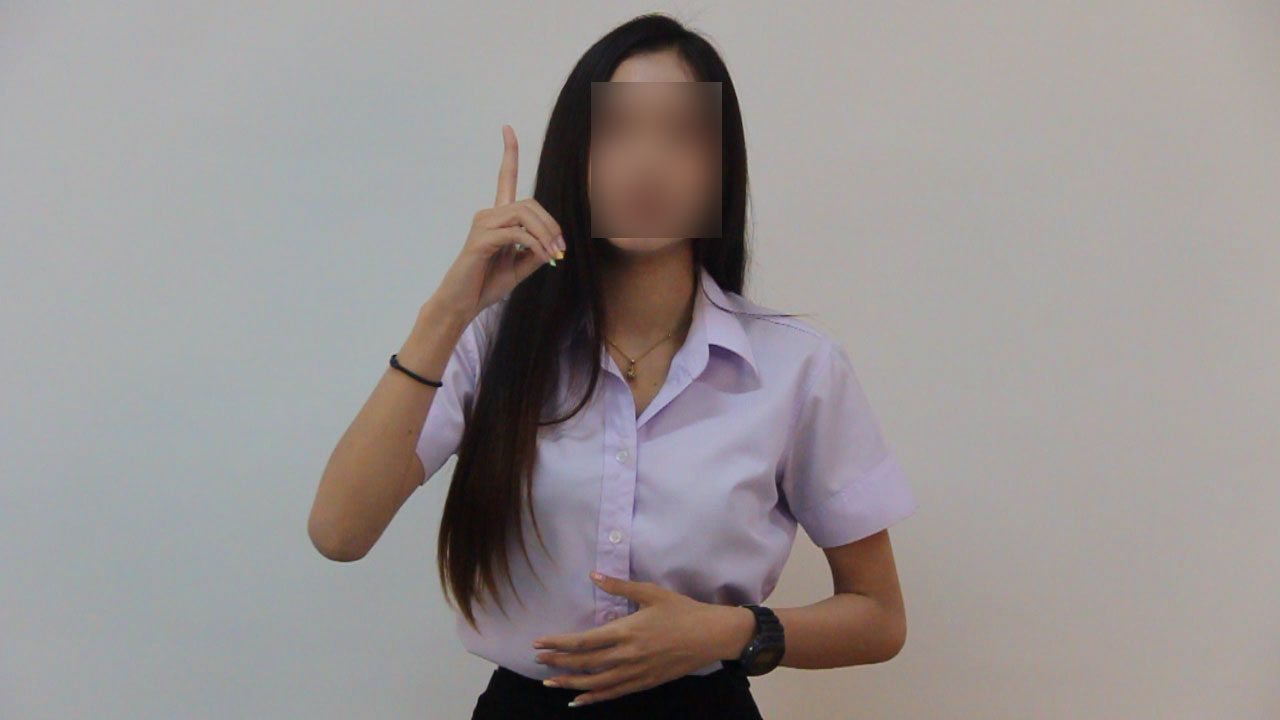dor: (417, 117, 570, 315)
